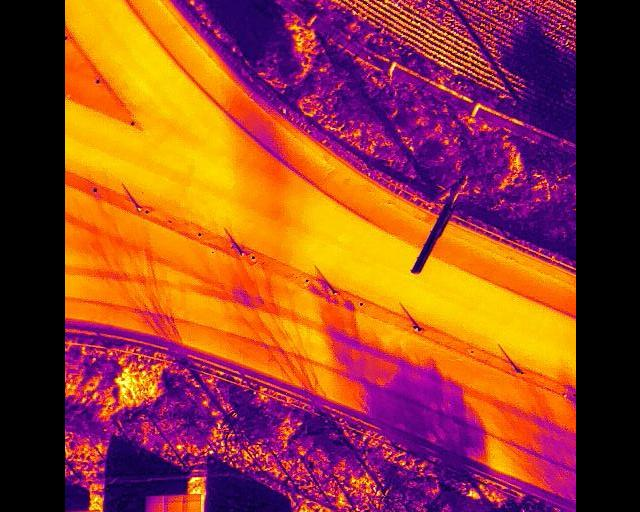No-Anomaly: (162, 494, 182, 512), (182, 494, 201, 512), (144, 496, 161, 512)
